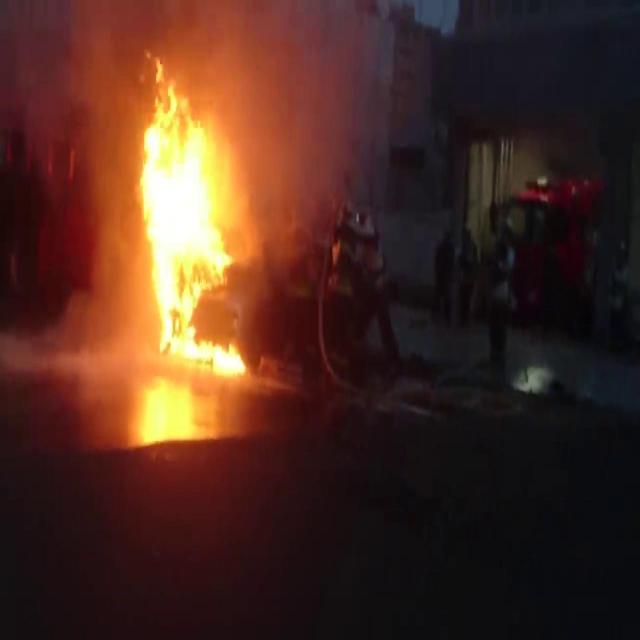Fire: (138, 51, 254, 378)
